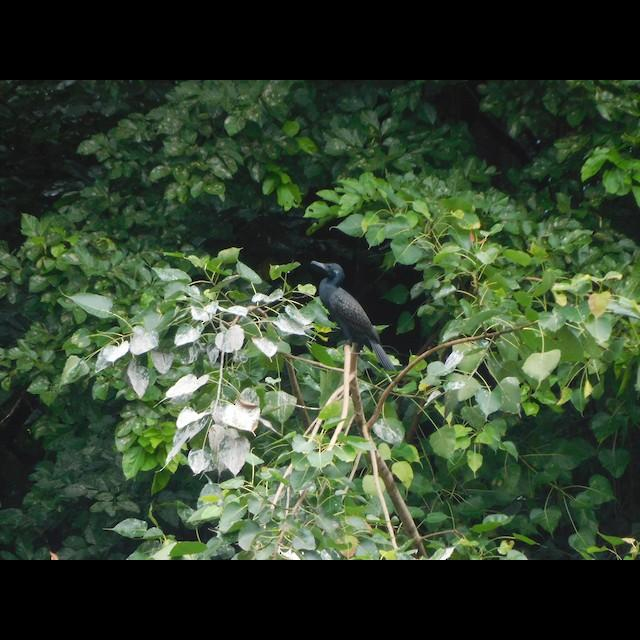cormorant: (304, 256, 400, 372)
